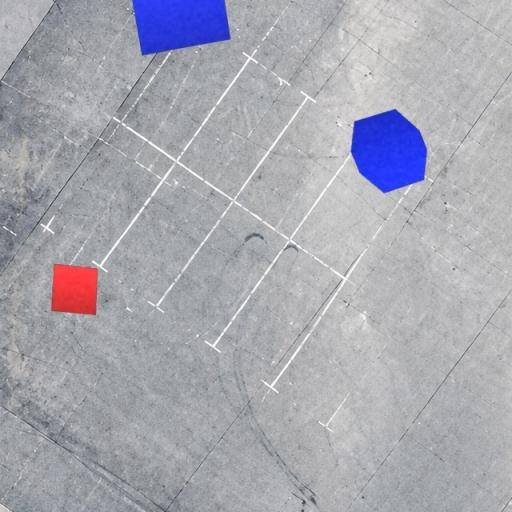BLUE_SQUARE: (126, 0, 231, 56)
RED_SQUARE: (50, 263, 98, 316)
